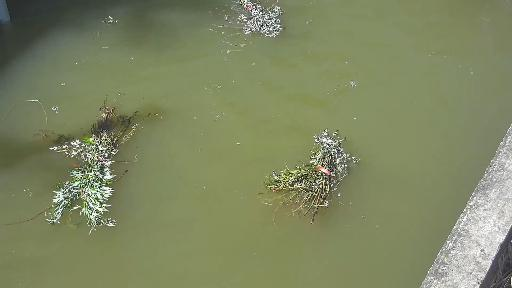twig: (28, 99, 162, 232), (269, 122, 363, 222), (226, 0, 293, 49)
